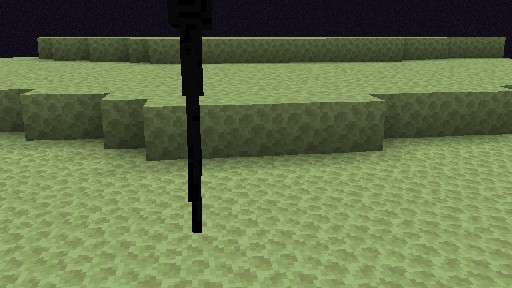enderman: (165, 0, 212, 237)
